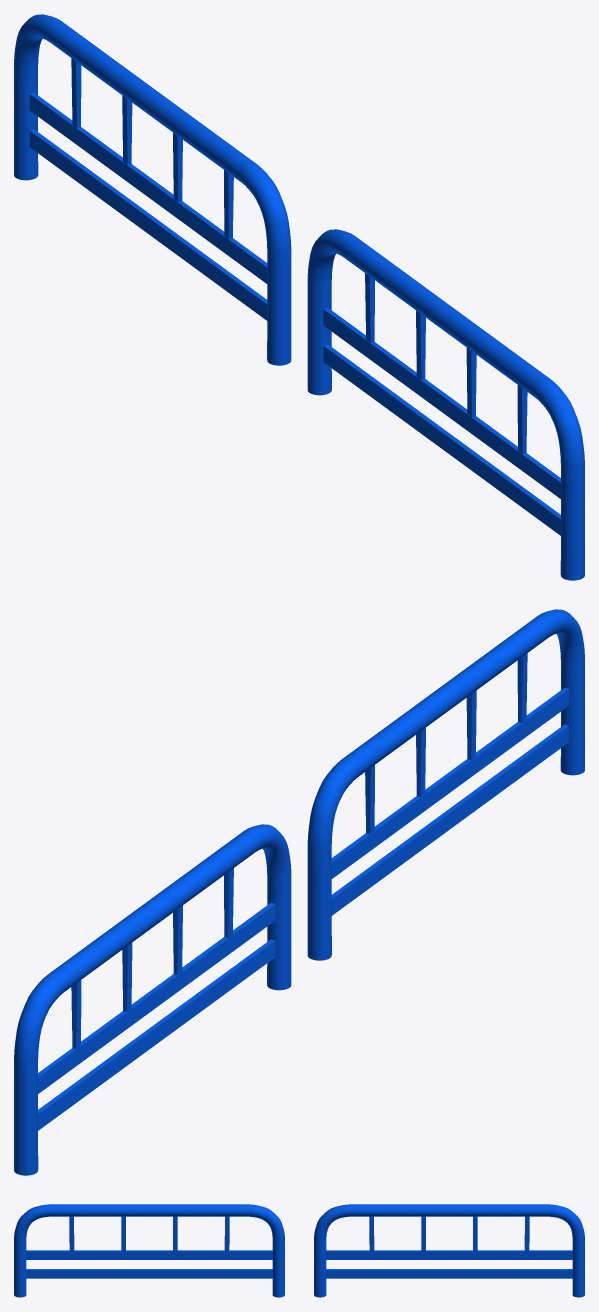
File: Cargo_Platform_Rejas.fbx
3 views of the same model, one above another, from view 1: azimuth 30°, elevation 25°; view 2: azimuth 150°, elevation 25°; view 3: azimuth 270°, elevation 25° (orthographic). The views are drawn at different scales.
Parts seen in each view (by area): view 1: Rejas; view 2: Rejas; view 3: Rejas.
Boxes of the visible parts, box(x1,y1,x2,y2) form: Rejas: box(14, 14, 584, 580); Rejas: box(14, 609, 584, 1175); Rejas: box(14, 1204, 584, 1297).
Size of the model in its own units: 12 by 95.95 by 552.
